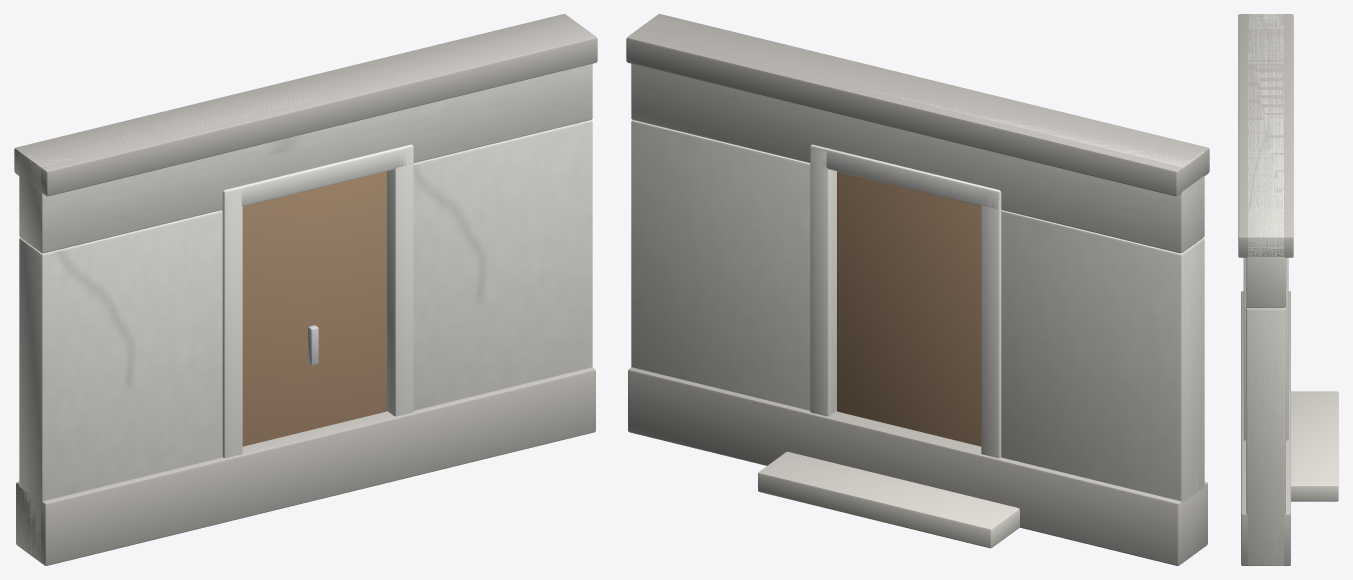
The model's file is th34_wand_tuer.glb.
3 renders of one model, left to right at view 1: azimuth 30°, elevation 25°; view 2: azimuth 150°, elevation 25°; view 3: azimuth 270°, elevation 25°, orthographic. The views are drawn at different scales.
Parts seen in each view (by area): view 1: Cube.001, Cube.002, Cube.012, Cube.003, Cube.013, Cube, Cube.008, Cube.007, Cube.009; view 2: Cube.001, Cube.002, Cube.003, Cube.012, Cube.013, Cube, Cube.011, Cube.008, Cube.007, Cube.009; view 3: Cube.013, Cube.002, Cube, Cube.011, Cube.012, Cube.008.
Boxes of the visible parts, x1,y1,x2,y2 form: Cube.001: [19, 210, 222, 562]; Cube.002: [387, 120, 592, 414]; Cube.012: [16, 367, 595, 565]; Cube.003: [242, 171, 386, 446]; Cube.013: [14, 14, 597, 196]; Cube: [19, 58, 592, 253]; Cube.008: [392, 145, 413, 416]; Cube.007: [222, 186, 242, 457]; Cube.009: [224, 144, 412, 206]; Cube.001: [1001, 210, 1204, 502]; Cube.002: [631, 120, 836, 414]; Cube.003: [837, 171, 981, 446]; Cube.012: [628, 367, 1207, 565]; Cube.013: [626, 14, 1209, 196]; Cube: [631, 18, 1204, 253]; Cube.011: [758, 451, 1019, 548]; Cube.008: [810, 145, 831, 416]; Cube.007: [981, 188, 1001, 457]; Cube.009: [811, 144, 1000, 209]; Cube.013: [1238, 14, 1293, 257]; Cube.002: [1246, 306, 1285, 565]; Cube: [1246, 14, 1285, 308]; Cube.011: [1291, 391, 1338, 501]; Cube.012: [1241, 291, 1290, 565]; Cube.008: [1243, 257, 1288, 440].
Bounding box in the file's own units: 4 × 2.75 × 0.76.
7 materials, 1 textured.
